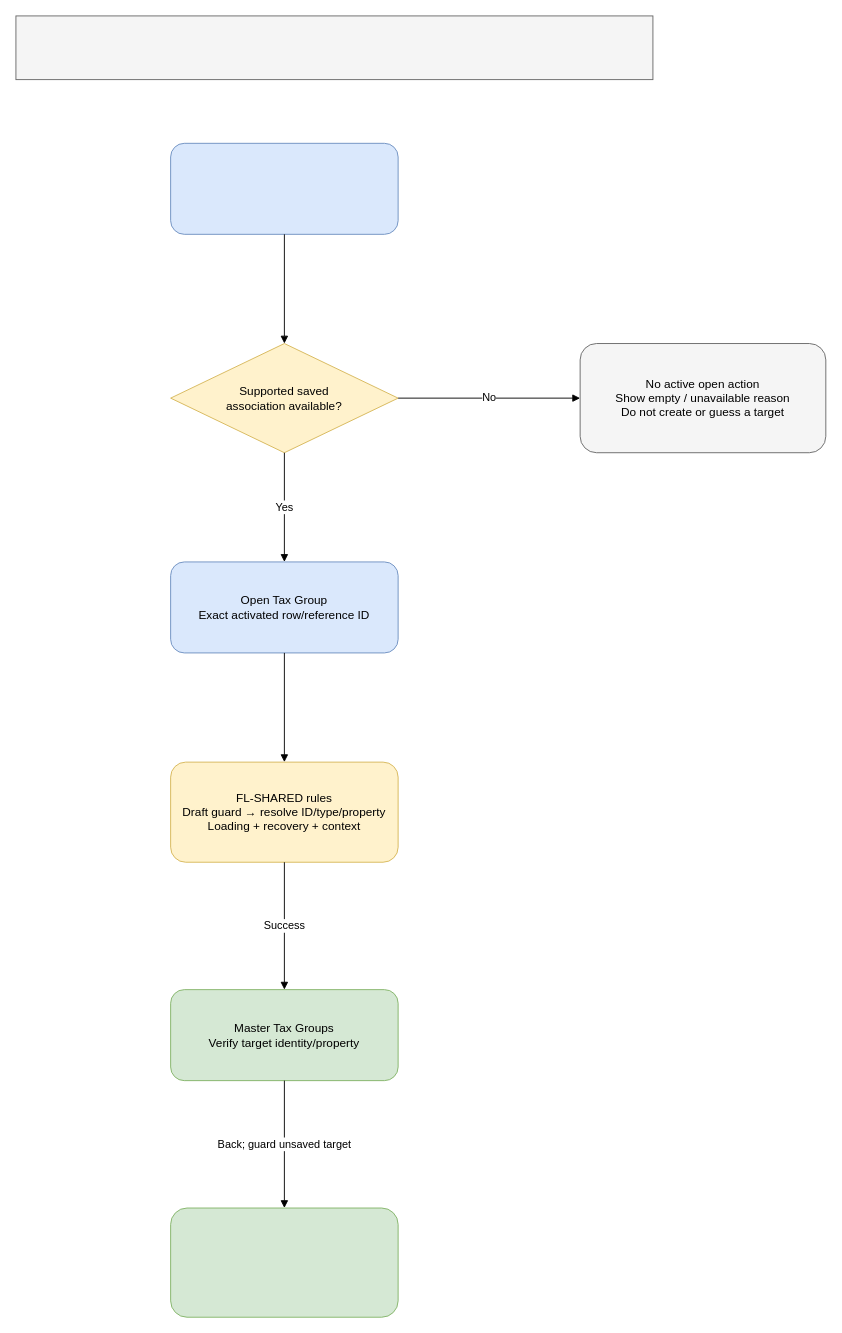
This 842x1333 diagram has some shape labels left out. Each missing label, with the centre of its shape:
Back to source Restore record, property, tab, row, filter/date and scroll: [284,1262]
BR-012 — Transaction Code to Tax Groups Link: [334,47]
Transaction Code / TG row: [284,188]
